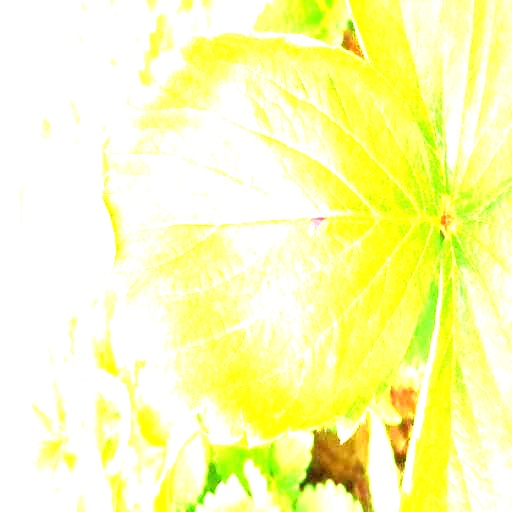Leaf Spot: (99, 28, 442, 447)
